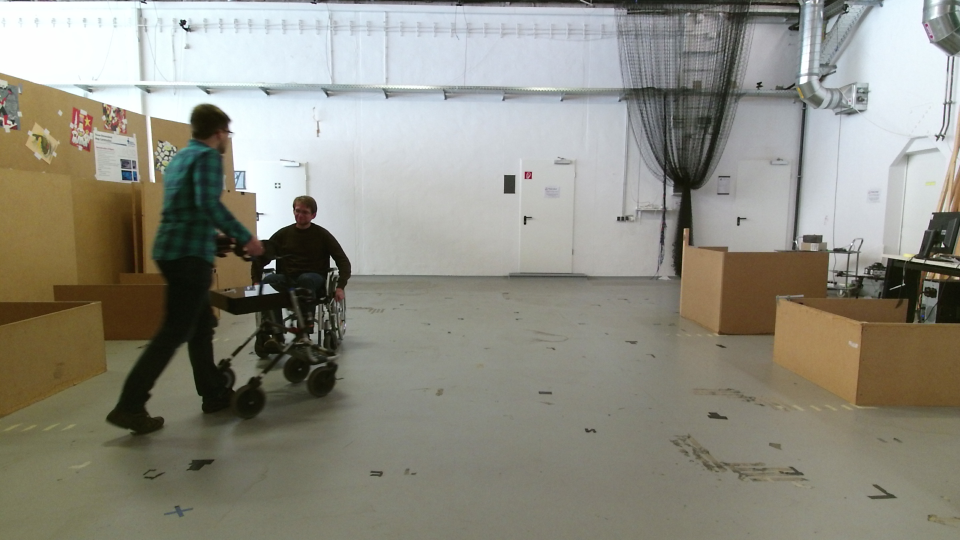wheelchair: (240, 189, 356, 363)
